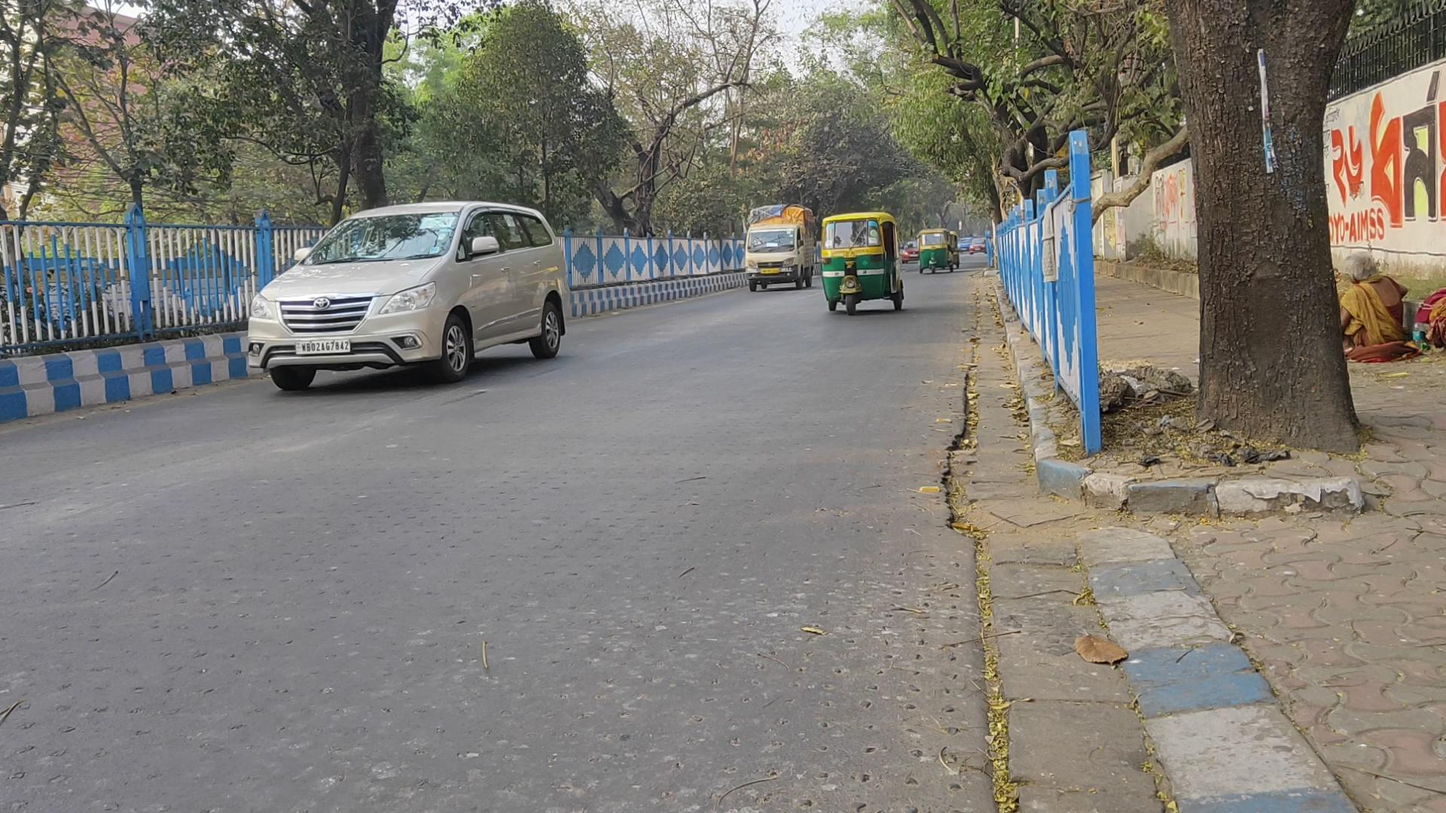Auto: (819, 211, 905, 317), (916, 227, 954, 276)
car: (247, 197, 566, 390)
van: (743, 203, 816, 293)
